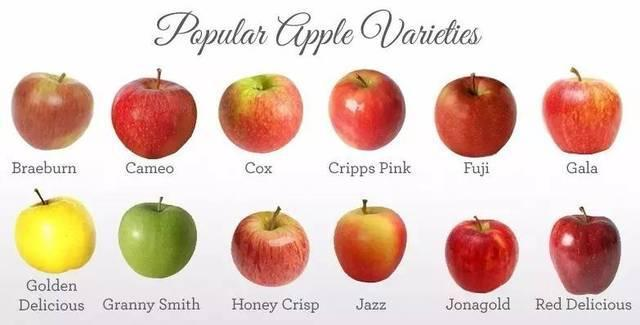apple: (109, 71, 197, 158), (540, 69, 623, 154), (432, 75, 517, 157), (219, 74, 303, 153), (11, 72, 93, 152), (230, 207, 310, 289), (327, 69, 406, 152), (117, 197, 197, 278), (547, 208, 620, 296), (15, 196, 95, 274), (331, 201, 407, 282), (443, 215, 518, 292)
